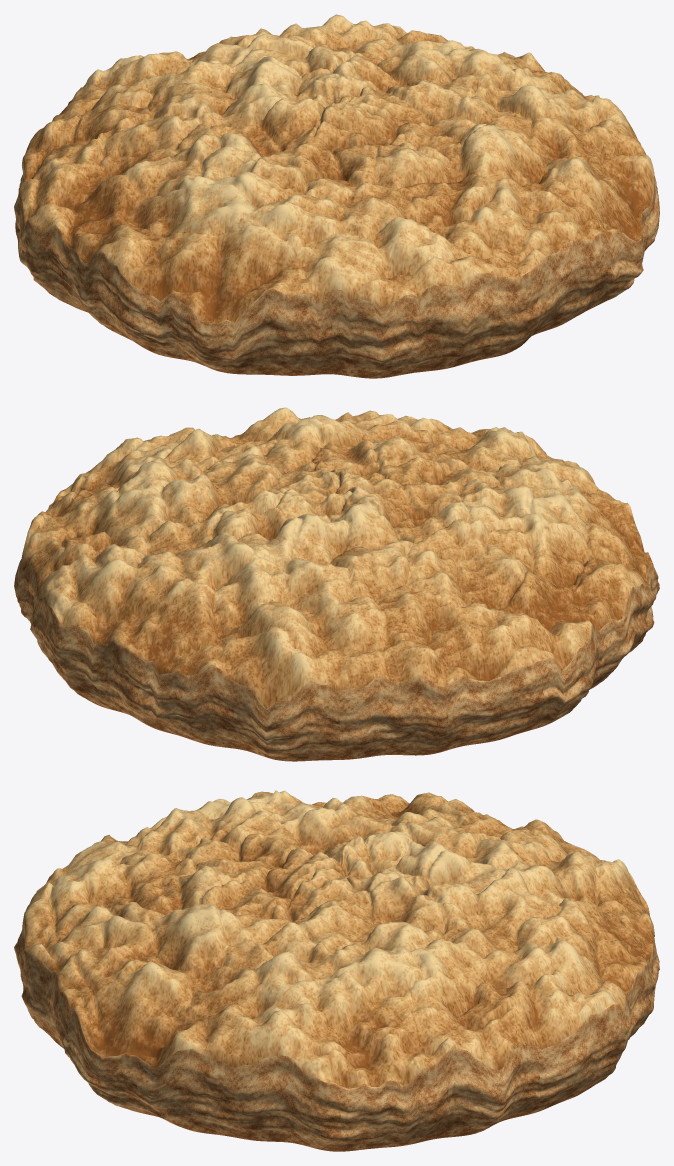
Rendered from tem_plain.glb.
3 renders of one model, top to bottom at view 1: azimuth 30°, elevation 25°; view 2: azimuth 150°, elevation 25°; view 3: azimuth 270°, elevation 25°, orthographic. The views are drawn at different scales.
Parts seen in each view (by area): view 1: Baked porous crumb; view 2: Baked porous crumb; view 3: Baked porous crumb.
Boxes of the visible parts, x1,y1,x2,y2 form: Baked porous crumb: (14,14,659,378); Baked porous crumb: (14,407,659,761); Baked porous crumb: (14,790,659,1151).
Size of the model in its own units: 0.093 by 0.0271 by 0.0903.
Materials: 2 (2 with a texture image).
